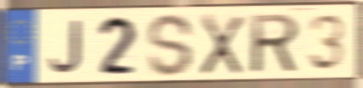2: (95, 14, 141, 79)
3: (307, 13, 346, 72)
J: (47, 18, 85, 76)
R: (248, 11, 302, 75)
S: (145, 11, 196, 79)
X: (198, 12, 246, 77)
